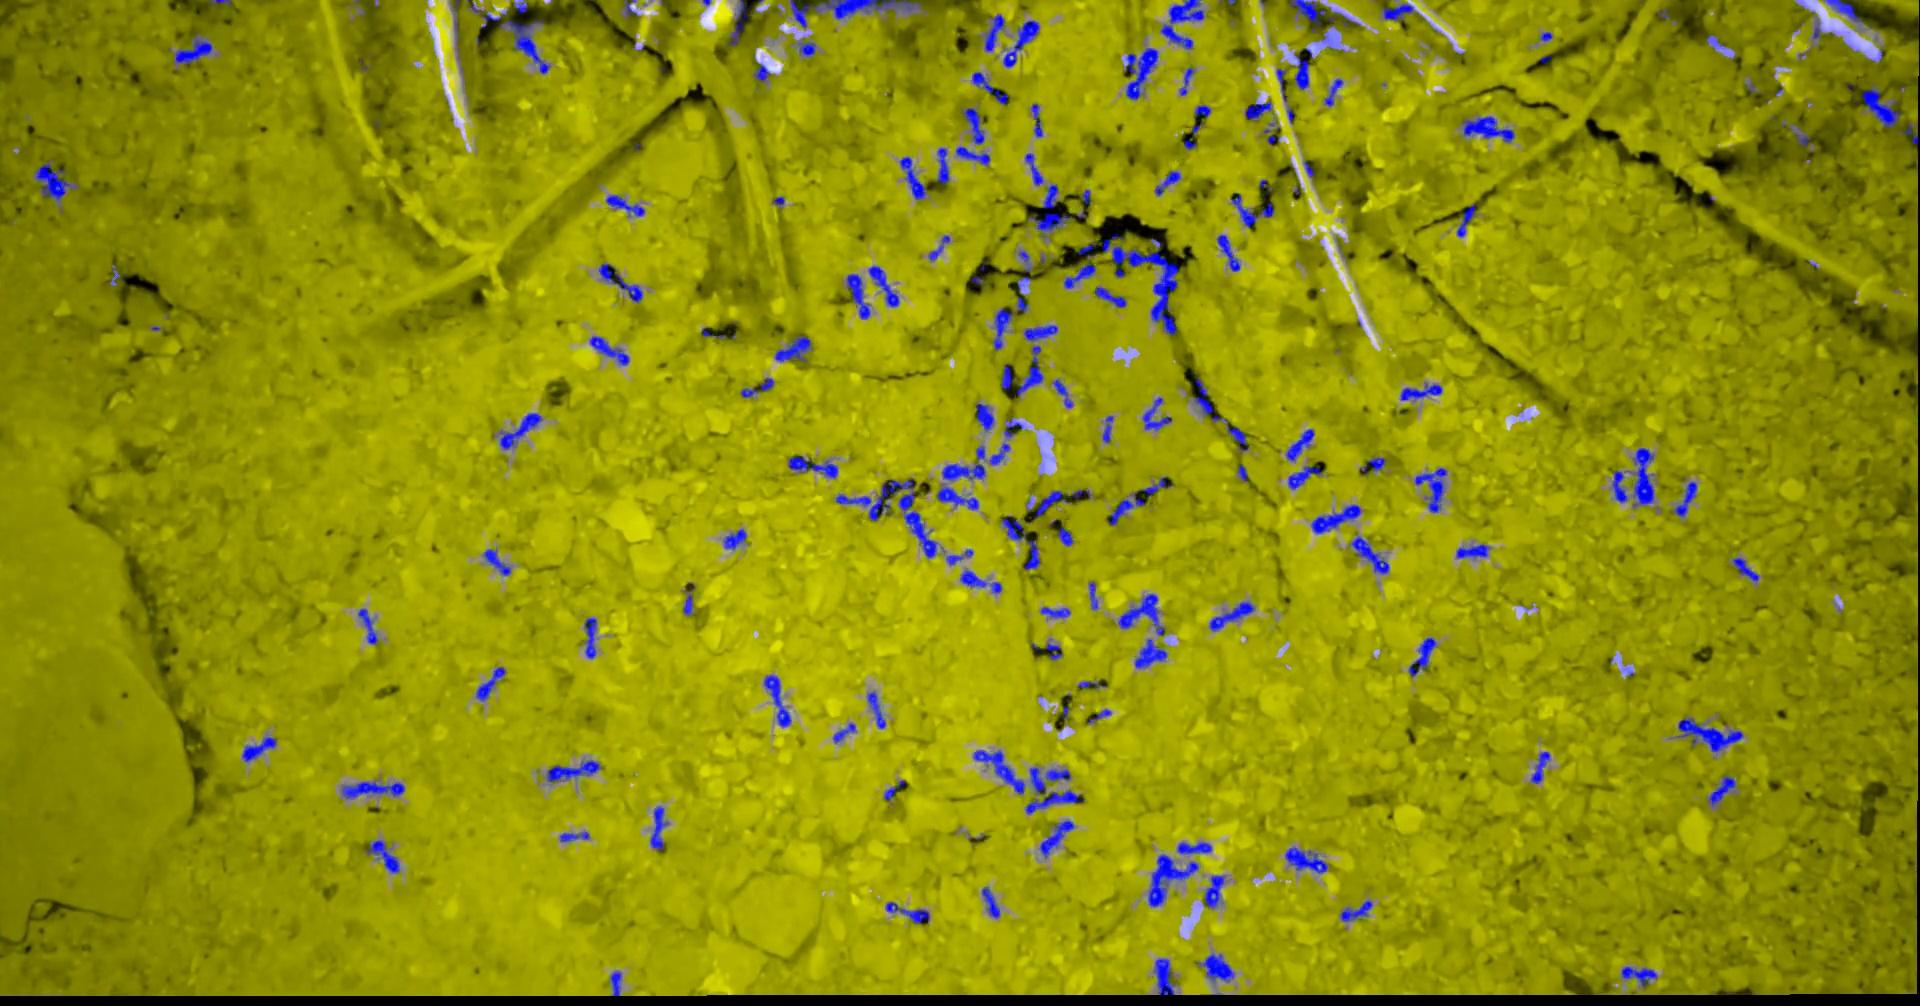ant: (466, 0, 549, 72), (1147, 854, 1197, 906), (1027, 184, 1070, 236), (1677, 716, 1742, 751), (973, 749, 1023, 793), (1161, 0, 1204, 48), (1117, 593, 1164, 635), (598, 263, 643, 302), (1002, 20, 1039, 67), (1125, 47, 1158, 99), (941, 445, 985, 480), (1192, 377, 1227, 423), (499, 412, 541, 448), (1349, 535, 1388, 573), (1862, 86, 1898, 127), (1230, 192, 1272, 227), (34, 161, 71, 201), (1310, 504, 1360, 533), (1025, 789, 1084, 813), (1415, 467, 1446, 512), (1209, 601, 1255, 631), (1462, 116, 1514, 142), (763, 674, 790, 727), (1015, 345, 1043, 395), (1039, 819, 1074, 857), (1632, 447, 1653, 506), (1106, 492, 1144, 525), (869, 265, 899, 306), (546, 760, 599, 782), (971, 71, 1008, 104), (175, 33, 212, 64), (1029, 767, 1070, 794), (342, 781, 404, 799), (789, 455, 837, 478), (589, 337, 629, 365), (1408, 636, 1436, 676), (899, 156, 924, 199), (1284, 847, 1327, 873), (366, 840, 399, 873), (1289, 0, 1324, 30), (1032, 490, 1069, 520), (725, 0, 749, 44), (846, 273, 869, 319), (475, 666, 505, 700), (1196, 953, 1233, 981), (885, 901, 930, 923), (1134, 638, 1166, 668), (1142, 398, 1171, 431), (993, 307, 1016, 349), (936, 486, 978, 509), (959, 570, 1001, 593), (775, 335, 811, 361), (1285, 428, 1313, 460), (1707, 775, 1735, 807), (241, 735, 276, 761), (604, 194, 644, 216), (961, 107, 984, 144), (1217, 234, 1239, 271), (1672, 481, 1697, 516), (1825, 0, 1863, 22), (1063, 263, 1095, 288), (1288, 465, 1321, 489), (1153, 958, 1175, 995), (483, 547, 510, 575), (984, 14, 1004, 51), (357, 608, 377, 644), (1399, 384, 1443, 400), (1203, 875, 1224, 908), (1622, 967, 1656, 987), (650, 807, 667, 848), (955, 146, 990, 165), (740, 377, 773, 398), (1139, 476, 1172, 497), (867, 691, 885, 728), (1154, 170, 1180, 196), (1093, 287, 1125, 307), (1001, 514, 1026, 540), (1340, 901, 1371, 921), (1023, 152, 1043, 185), (1457, 205, 1476, 236), (1530, 751, 1549, 782), (1732, 558, 1757, 580), (1382, 3, 1413, 20), (982, 887, 999, 918), (1023, 324, 1057, 340), (1053, 379, 1072, 406), (1455, 542, 1490, 558), (1227, 426, 1248, 450), (928, 235, 949, 260), (1244, 100, 1271, 119), (1324, 77, 1342, 105), (975, 403, 993, 431), (1611, 470, 1627, 502), (1294, 55, 1308, 89), (1359, 457, 1385, 475), (723, 528, 745, 549), (1023, 539, 1039, 569), (584, 617, 596, 658), (936, 147, 949, 183), (946, 547, 971, 565), (883, 780, 904, 800), (832, 723, 855, 742), (1030, 103, 1043, 136), (1898, 123, 1919, 144), (989, 443, 1010, 464), (1178, 66, 1192, 95), (1177, 842, 1211, 854), (1276, 69, 1288, 102), (1004, 417, 1022, 437), (1001, 365, 1015, 389), (1018, 250, 1030, 279), (1040, 606, 1069, 617), (1087, 708, 1110, 721), (559, 831, 588, 841), (753, 64, 770, 81), (1057, 526, 1072, 545), (610, 970, 621, 996), (1045, 643, 1062, 659), (797, 41, 815, 56), (1077, 241, 1095, 257), (1102, 415, 1112, 442), (1194, 104, 1210, 119), (1088, 580, 1097, 608), (1016, 292, 1027, 312), (623, 0, 637, 17), (1236, 464, 1248, 480), (109, 264, 119, 285), (682, 594, 692, 615), (1078, 681, 1105, 688), (513, 0, 527, 14), (1263, 130, 1277, 144), (1794, 133, 1810, 146)
